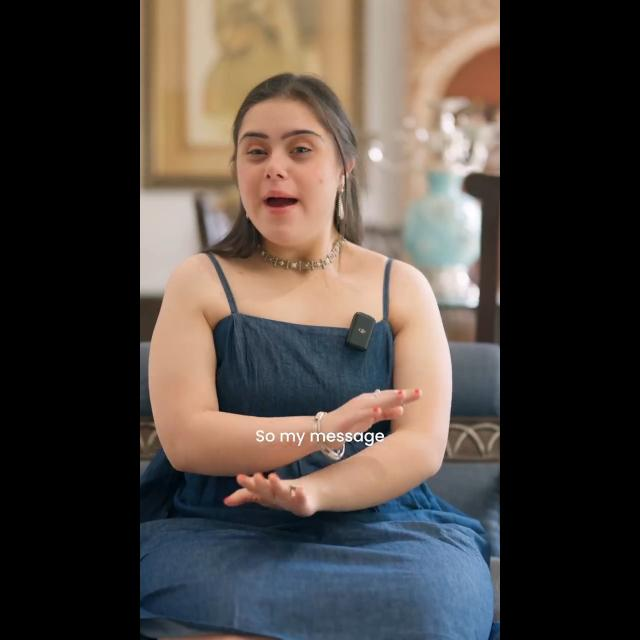dress: (146, 248, 494, 640)
